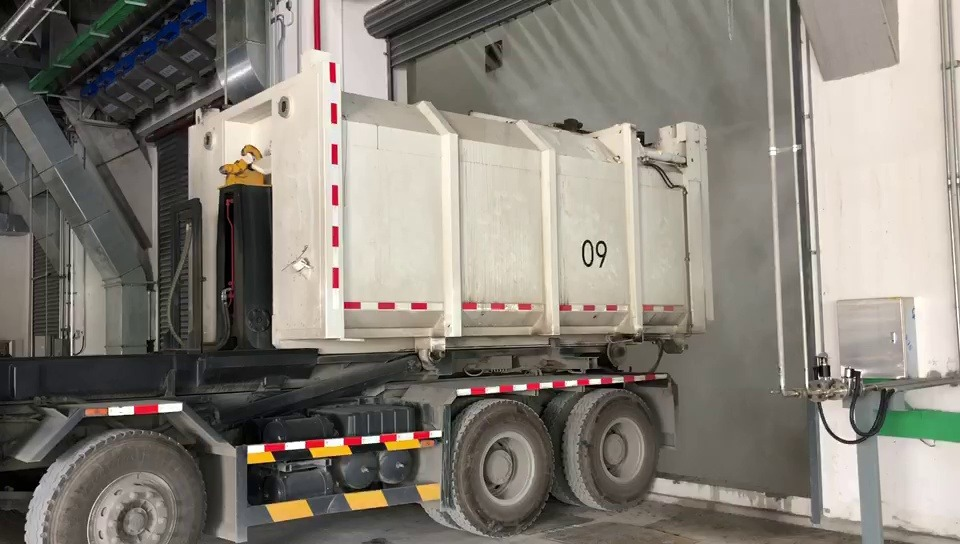truck: (0, 43, 720, 544)
